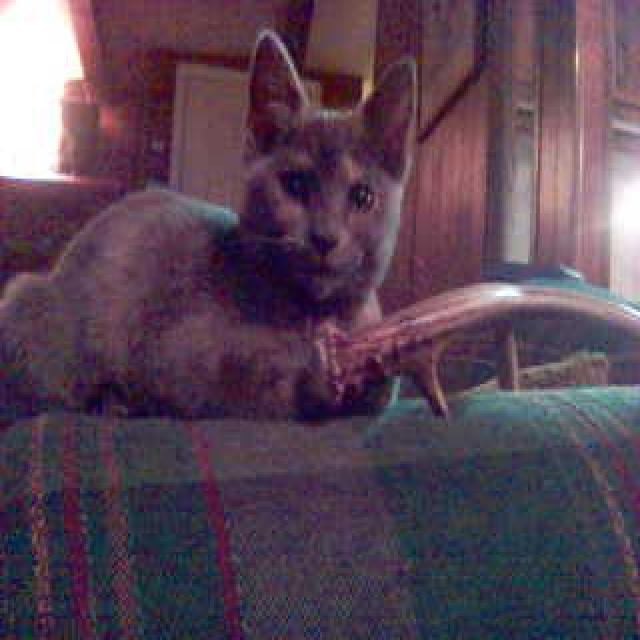Cats: (0, 27, 418, 421)
